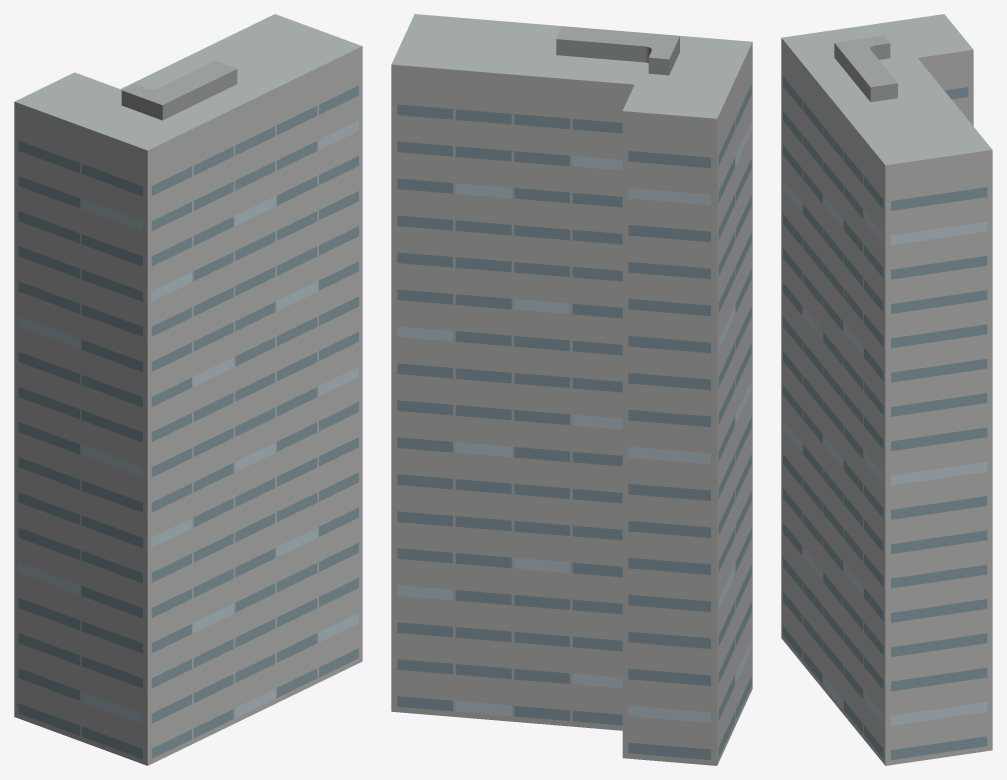
The model's file is fallback-songpa-helio-city-313.glb.
3 views of the same model, side by side, from view 1: azimuth 30°, elevation 25°; view 2: azimuth 150°, elevation 25°; view 3: azimuth 270°, elevation 25° (orthographic). The views are drawn at different scales.
Visible parts, largest first — view 1: fallback-songpa-helio-city-313; view 2: fallback-songpa-helio-city-313; view 3: fallback-songpa-helio-city-313.
Boxes of the visible parts, box(x1,y1,x2,y2) form: fallback-songpa-helio-city-313: box(14, 14, 362, 765); fallback-songpa-helio-city-313: box(391, 14, 752, 765); fallback-songpa-helio-city-313: box(781, 14, 992, 765).
Bounding box in the file's own units: 52.22 × 99 × 30.77.
